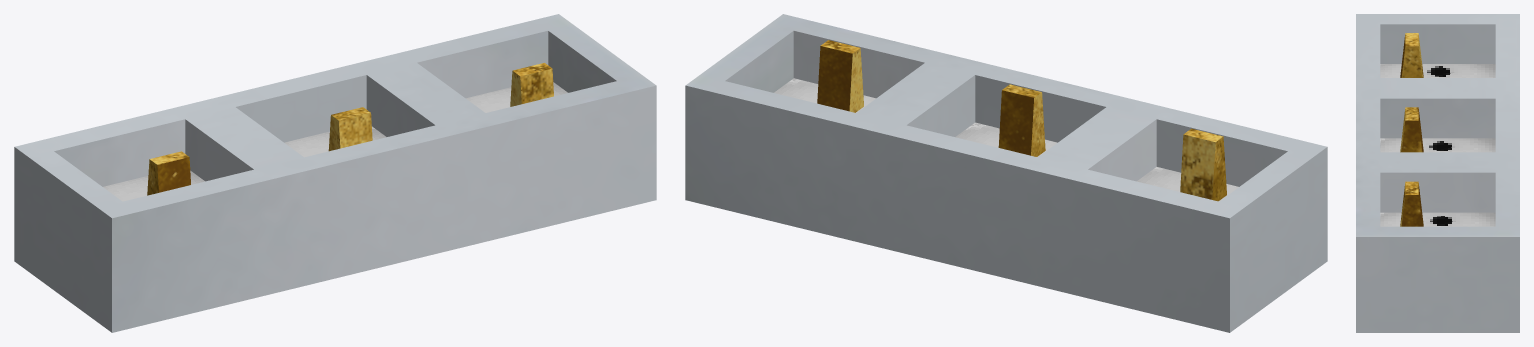
File: socket box.FBX
3 renders of one model, left to right at view 1: azimuth 30°, elevation 25°; view 2: azimuth 150°, elevation 25°; view 3: azimuth 270°, elevation 25°, orthographic. The views are drawn at different scales.
Visible parts, largest first — view 1: Box001, Object002, Object001; view 2: Box001, Object002, Object001; view 3: Box001, Object001, Object002.
Part boxes in pixels (x1,y1,x2,y2): Box001: [14, 14, 656, 332]; Object002: [147, 63, 553, 195]; Object001: [103, 82, 567, 201]; Box001: [685, 14, 1327, 332]; Object002: [817, 40, 1226, 201]; Object001: [774, 78, 1238, 201]; Box001: [1356, 14, 1519, 332]; Object001: [1380, 64, 1495, 226]; Object002: [1400, 33, 1423, 226].
Size of the model in its own units: 197 by 44.36 by 61.24.
3 materials, 3 textured.
